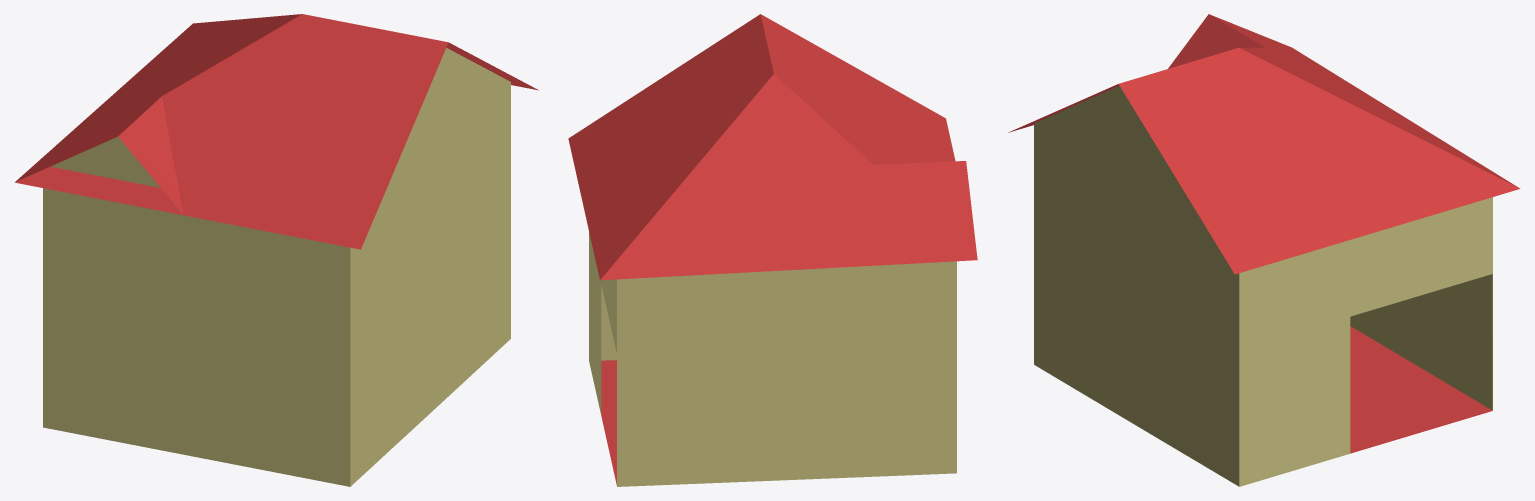
3 renders of one model, left to right at view 1: azimuth 30°, elevation 25°; view 2: azimuth 150°, elevation 25°; view 3: azimuth 270°, elevation 25°, orthographic. The views are drawn at different scales.
Bounding box in the file's own units: 19.9 × 19.5 × 14.46.
